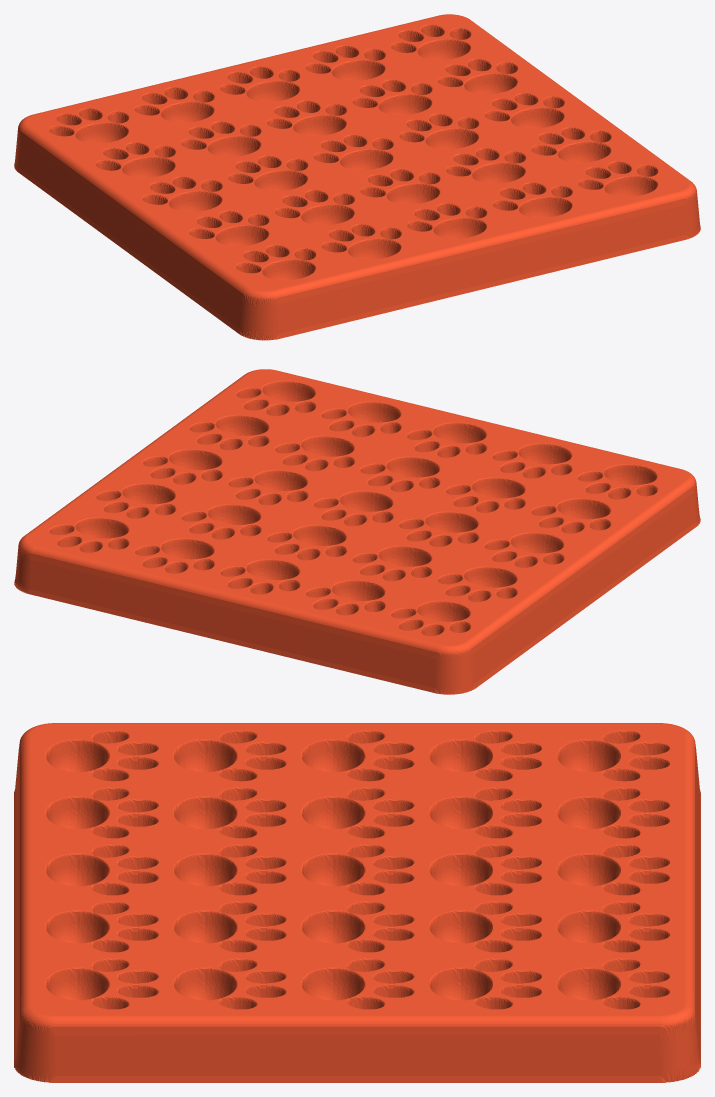
File: mold.glb
The picture shows the model from 3 angles, top to bottom: view 1: azimuth 30°, elevation 25°; view 2: azimuth 150°, elevation 25°; view 3: azimuth 270°, elevation 25°; orthographic projection. The views are drawn at different scales.
Visible parts, largest first — view 1: geometry_0; view 2: geometry_0; view 3: geometry_0.
Boxes of the visible parts, x1,y1,x2,y2 form: geometry_0: (14, 14, 700, 340); geometry_0: (14, 369, 700, 694); geometry_0: (14, 723, 700, 1082).
Size of the model in its own units: 0.1571 by 0.0145 by 0.1493.
